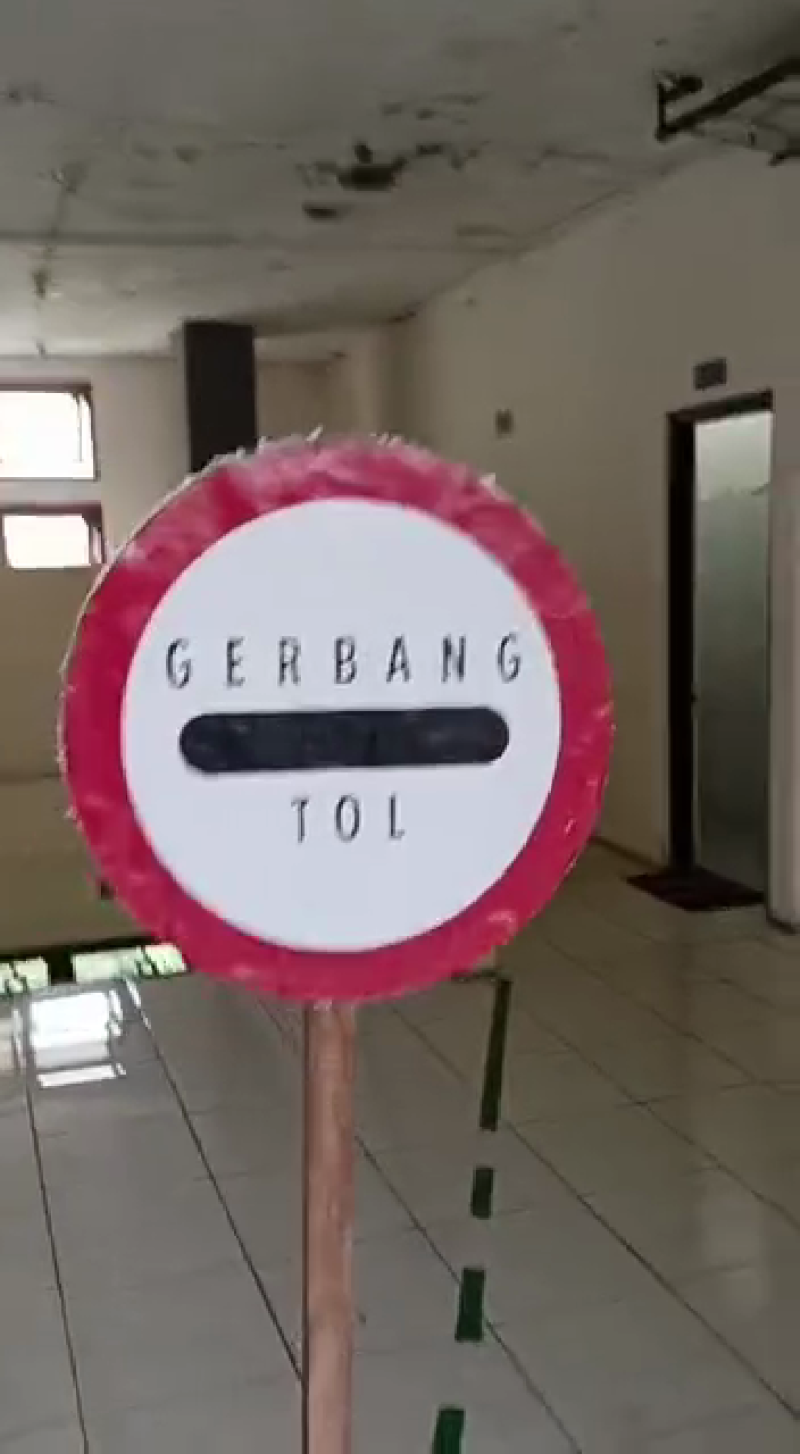gerbang tol: (48, 414, 622, 1027)
